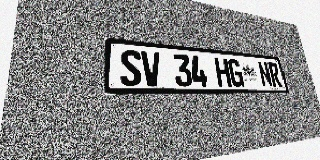3: (173, 54, 193, 87)
4: (189, 55, 208, 87)
G: (227, 59, 245, 87)
H: (214, 57, 232, 87)
N: (257, 61, 273, 87)
R: (267, 62, 283, 87)
S: (120, 49, 142, 86)
V: (141, 51, 162, 86)
